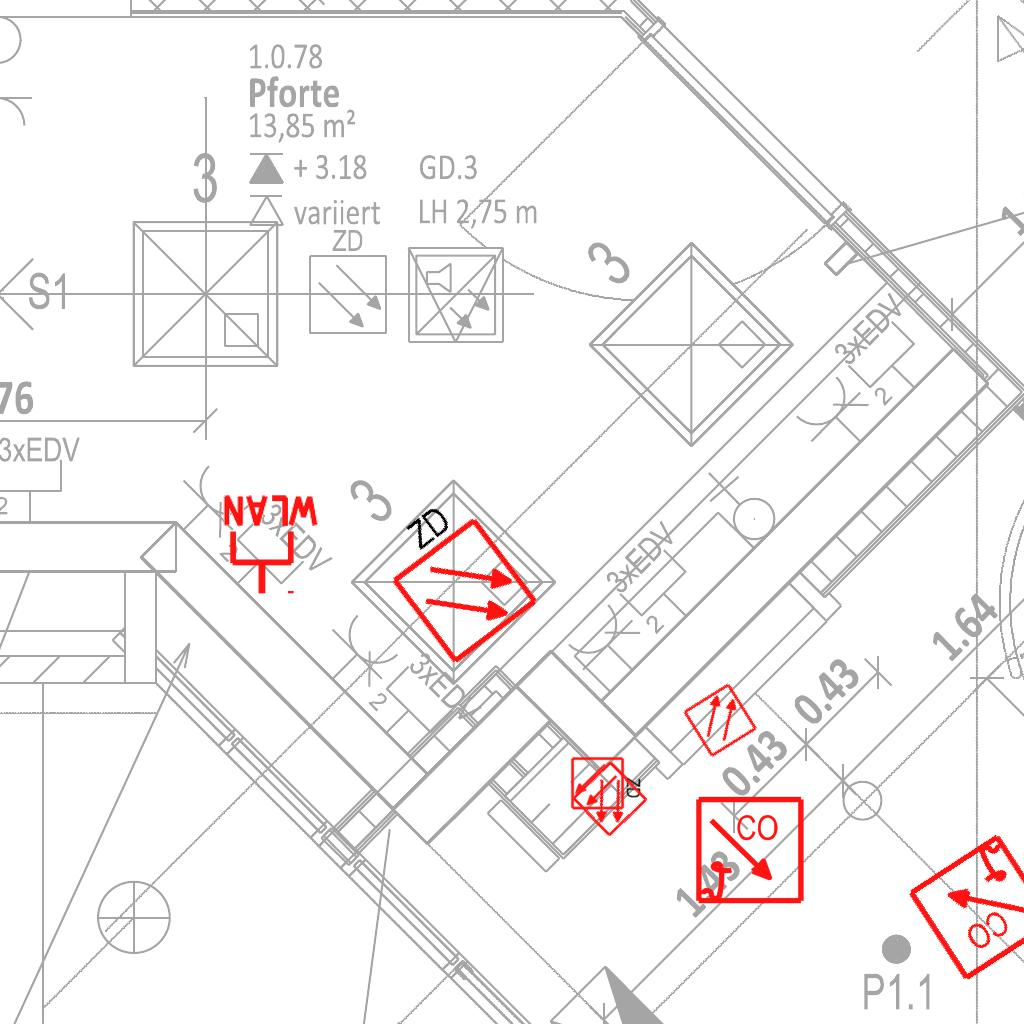RMO_Rauchmelder_optischer: (570, 759, 650, 839), (681, 681, 759, 759)
ROA_Rauchmelder_optisch_mit_Signalgeber_(Sockelsirene): (902, 828, 1024, 985), (694, 795, 807, 908)
WLAN: (219, 493, 323, 598)
ZD_Melder_in_Zwischendecke_mit_Revisionsoeffnung_mind_40_x_40_cm: (361, 482, 543, 671), (570, 754, 644, 811)
